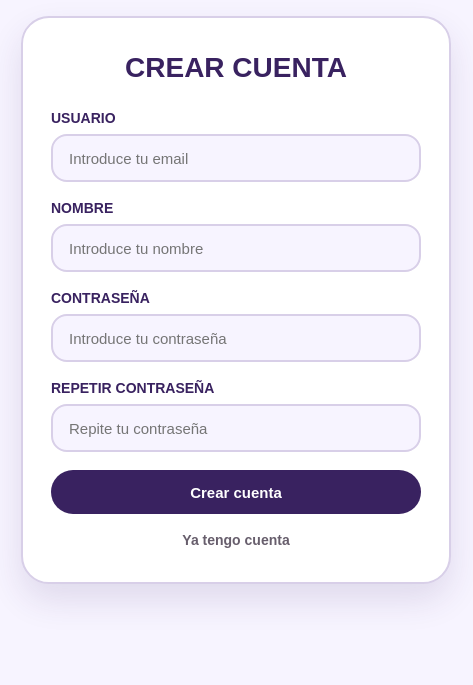
it: RegisterView › muestra error si las contraseñas no coinciden
The image size is (473, 685).
In the field with placeholder "Introduce tu email": (236, 158) [51,134,421,182], type "test@test.com"
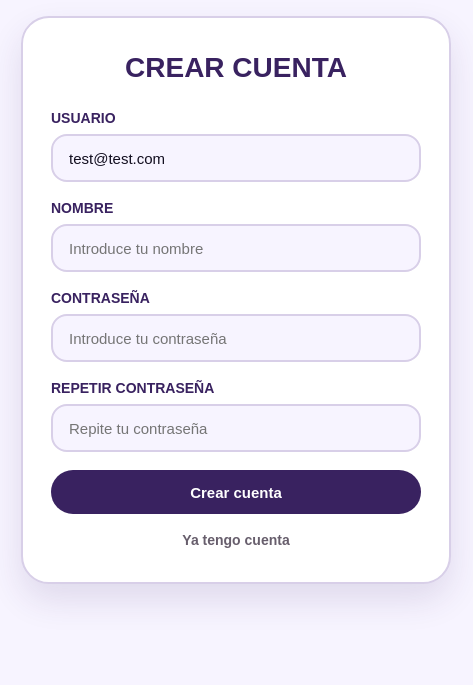
In the field with placeholder "Introduce tu nombre": (236, 248) [51,224,421,272], type "Ana"
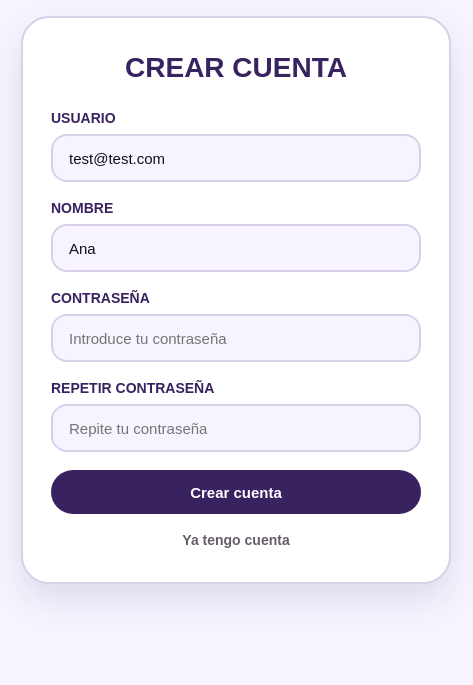
In the password field with placeholder "Introduce tu contraseña": (236, 338) [51,314,421,362], type "123456"
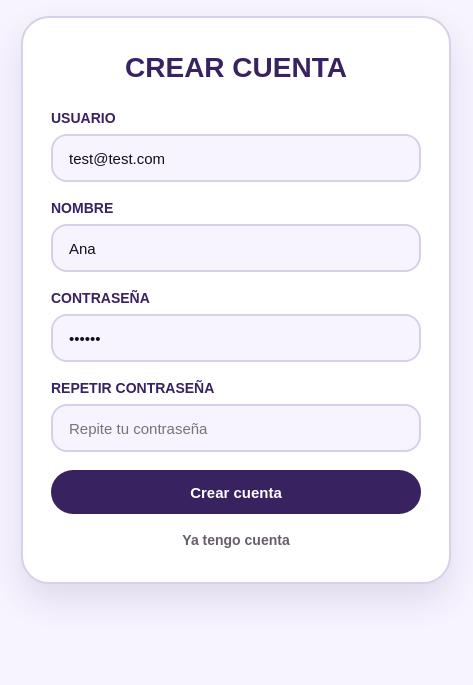
In the password field with placeholder "Repite tu contraseña": (236, 428) [51,404,421,452], type "654321"
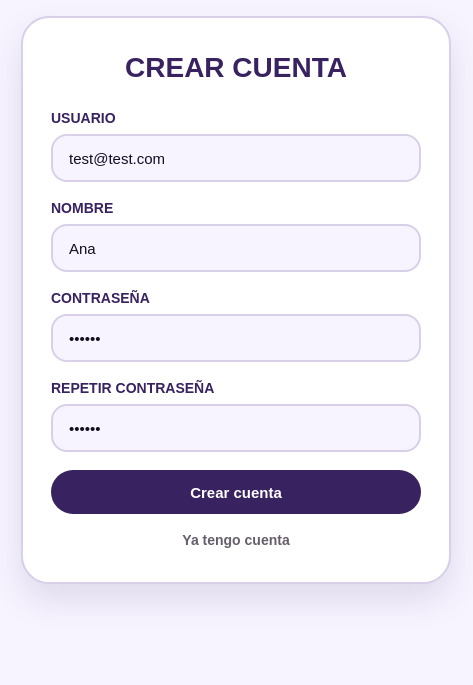
Submit the form, box [51,110,421,548]
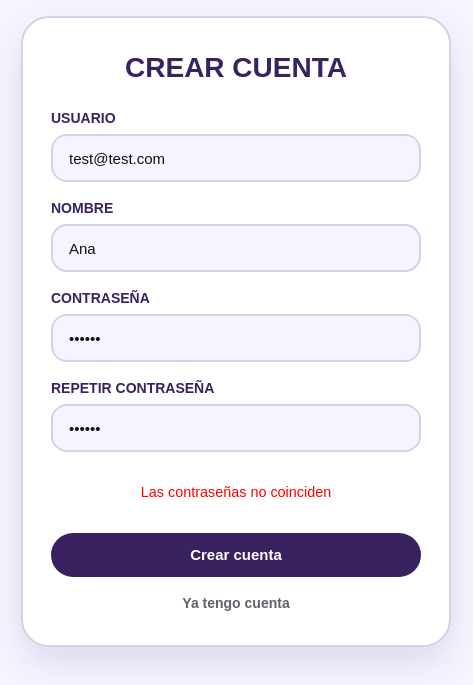
Expected: the text "Las contraseñas no coinciden" is shown, [141,484,331,500]
